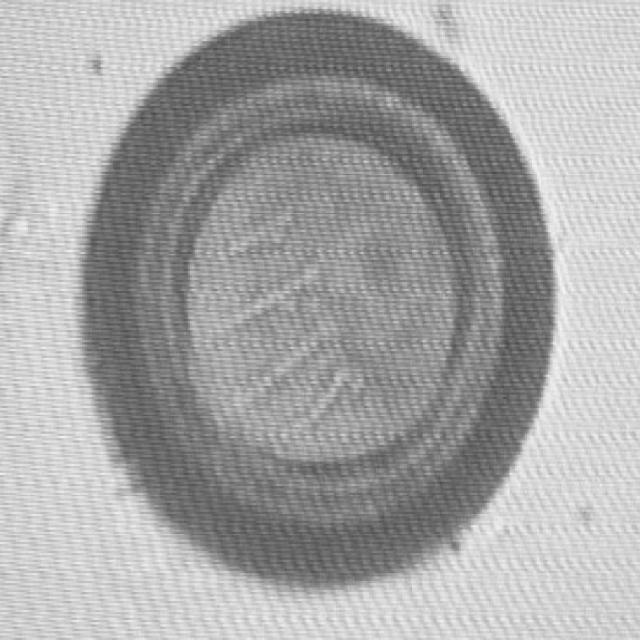Taenia Sp: (63, 8, 572, 599)
